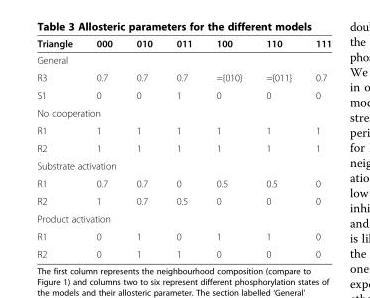table: (36, 37, 331, 259)
table column: (203, 37, 253, 259), (253, 37, 303, 259), (36, 37, 83, 259), (83, 37, 123, 259), (123, 37, 163, 259), (163, 37, 203, 259), (303, 37, 331, 259)
table column header: (36, 37, 331, 51)
table projected row header: (36, 103, 331, 121), (36, 156, 331, 174), (36, 209, 331, 227), (36, 51, 331, 68)
table row: (36, 68, 331, 86), (36, 103, 331, 121), (36, 121, 331, 139), (36, 156, 331, 174), (36, 191, 331, 209), (36, 209, 331, 227), (36, 51, 331, 68), (36, 86, 331, 103), (36, 139, 331, 156), (36, 174, 331, 191), (36, 227, 331, 244), (36, 244, 331, 259), (36, 37, 331, 51)
